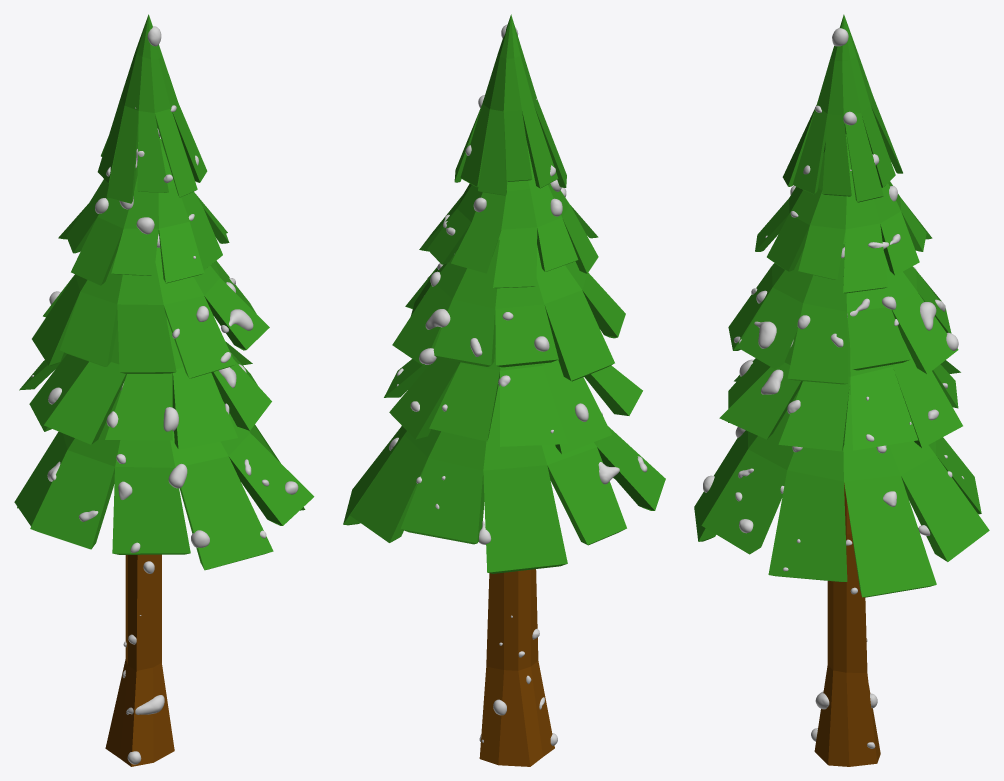
File: Tree 3.fbx
The picture shows the model from 3 angles, left to right: view 1: azimuth 30°, elevation 25°; view 2: azimuth 150°, elevation 25°; view 3: azimuth 270°, elevation 25°; orthographic projection.
Visible parts, largest first — view 1: Tree_Fir_7, 3dmSnow.006; view 2: Tree_Fir_7, 3dmSnow.006; view 3: Tree_Fir_7, 3dmSnow.006.
Boxes of the visible parts, x1,y1,x2,y2 form: Tree_Fir_7: (14, 14, 314, 766); 3dmSnow.006: (31, 26, 298, 764); Tree_Fir_7: (343, 14, 665, 766); 3dmSnow.006: (389, 24, 647, 745); Tree_Fir_7: (694, 14, 989, 766); 3dmSnow.006: (703, 28, 964, 748).
Bounding box in the file's own units: 190 × 476 × 172.
